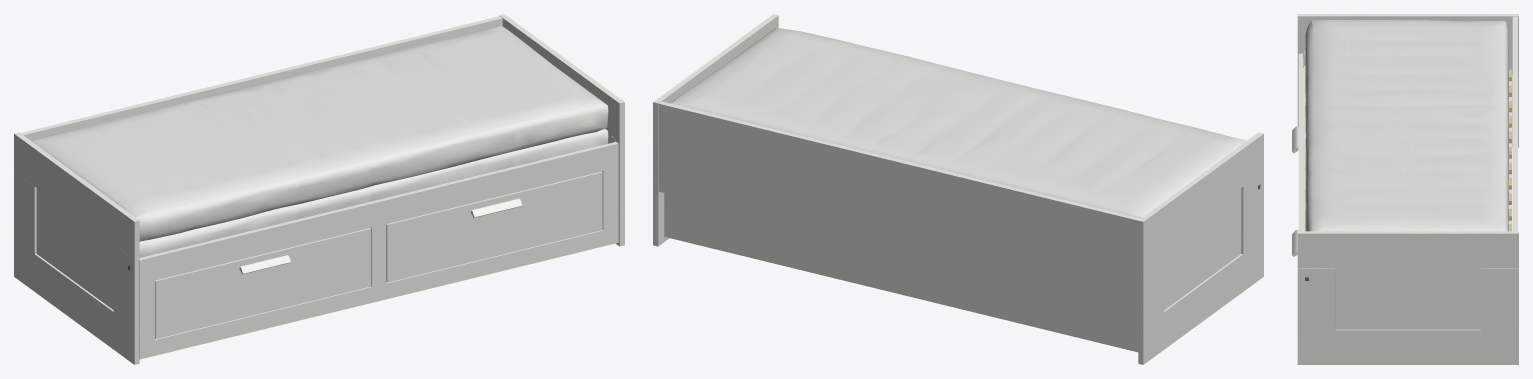
File: brimnes_lezanka_z_2_szufladami_2_materace_39521160.glb
3 renders of one model, left to right at view 1: azimuth 30°, elevation 25°; view 2: azimuth 150°, elevation 25°; view 3: azimuth 270°, elevation 25°, orthographic. The views are drawn at different scales.
Parts seen in each view (by area): view 1: brimnes_lezanka_z_2_szufladami_2_materace_39521160; view 2: brimnes_lezanka_z_2_szufladami_2_materace_39521160; view 3: brimnes_lezanka_z_2_szufladami_2_materace_39521160.
Part boxes in pixels (x1,y1,x2,y2): brimnes_lezanka_z_2_szufladami_2_materace_39521160: (14, 14, 624, 364); brimnes_lezanka_z_2_szufladami_2_materace_39521160: (653, 14, 1263, 364); brimnes_lezanka_z_2_szufladami_2_materace_39521160: (1292, 14, 1518, 364).
Bounding box in the file's own units: 2.05 × 0.577 × 0.8922.
2 materials, 1 textured.
